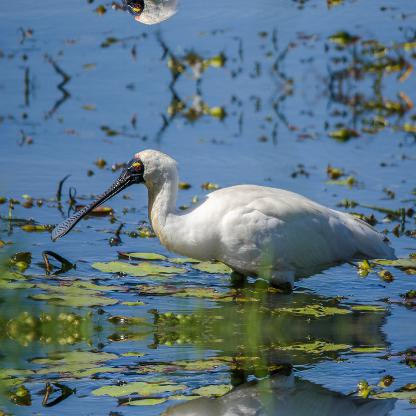Bird: (66, 162, 384, 297), (66, 360, 384, 415)
